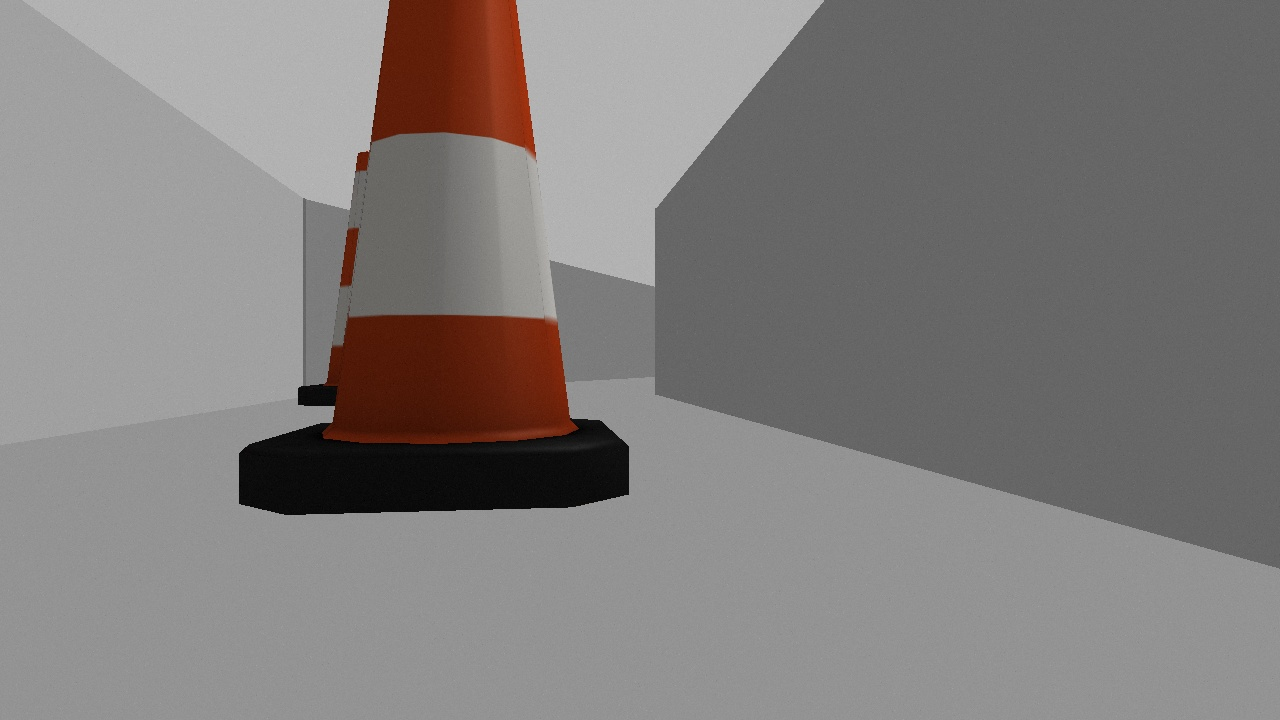barricade: (210, 1, 651, 530), (287, 139, 424, 415)
